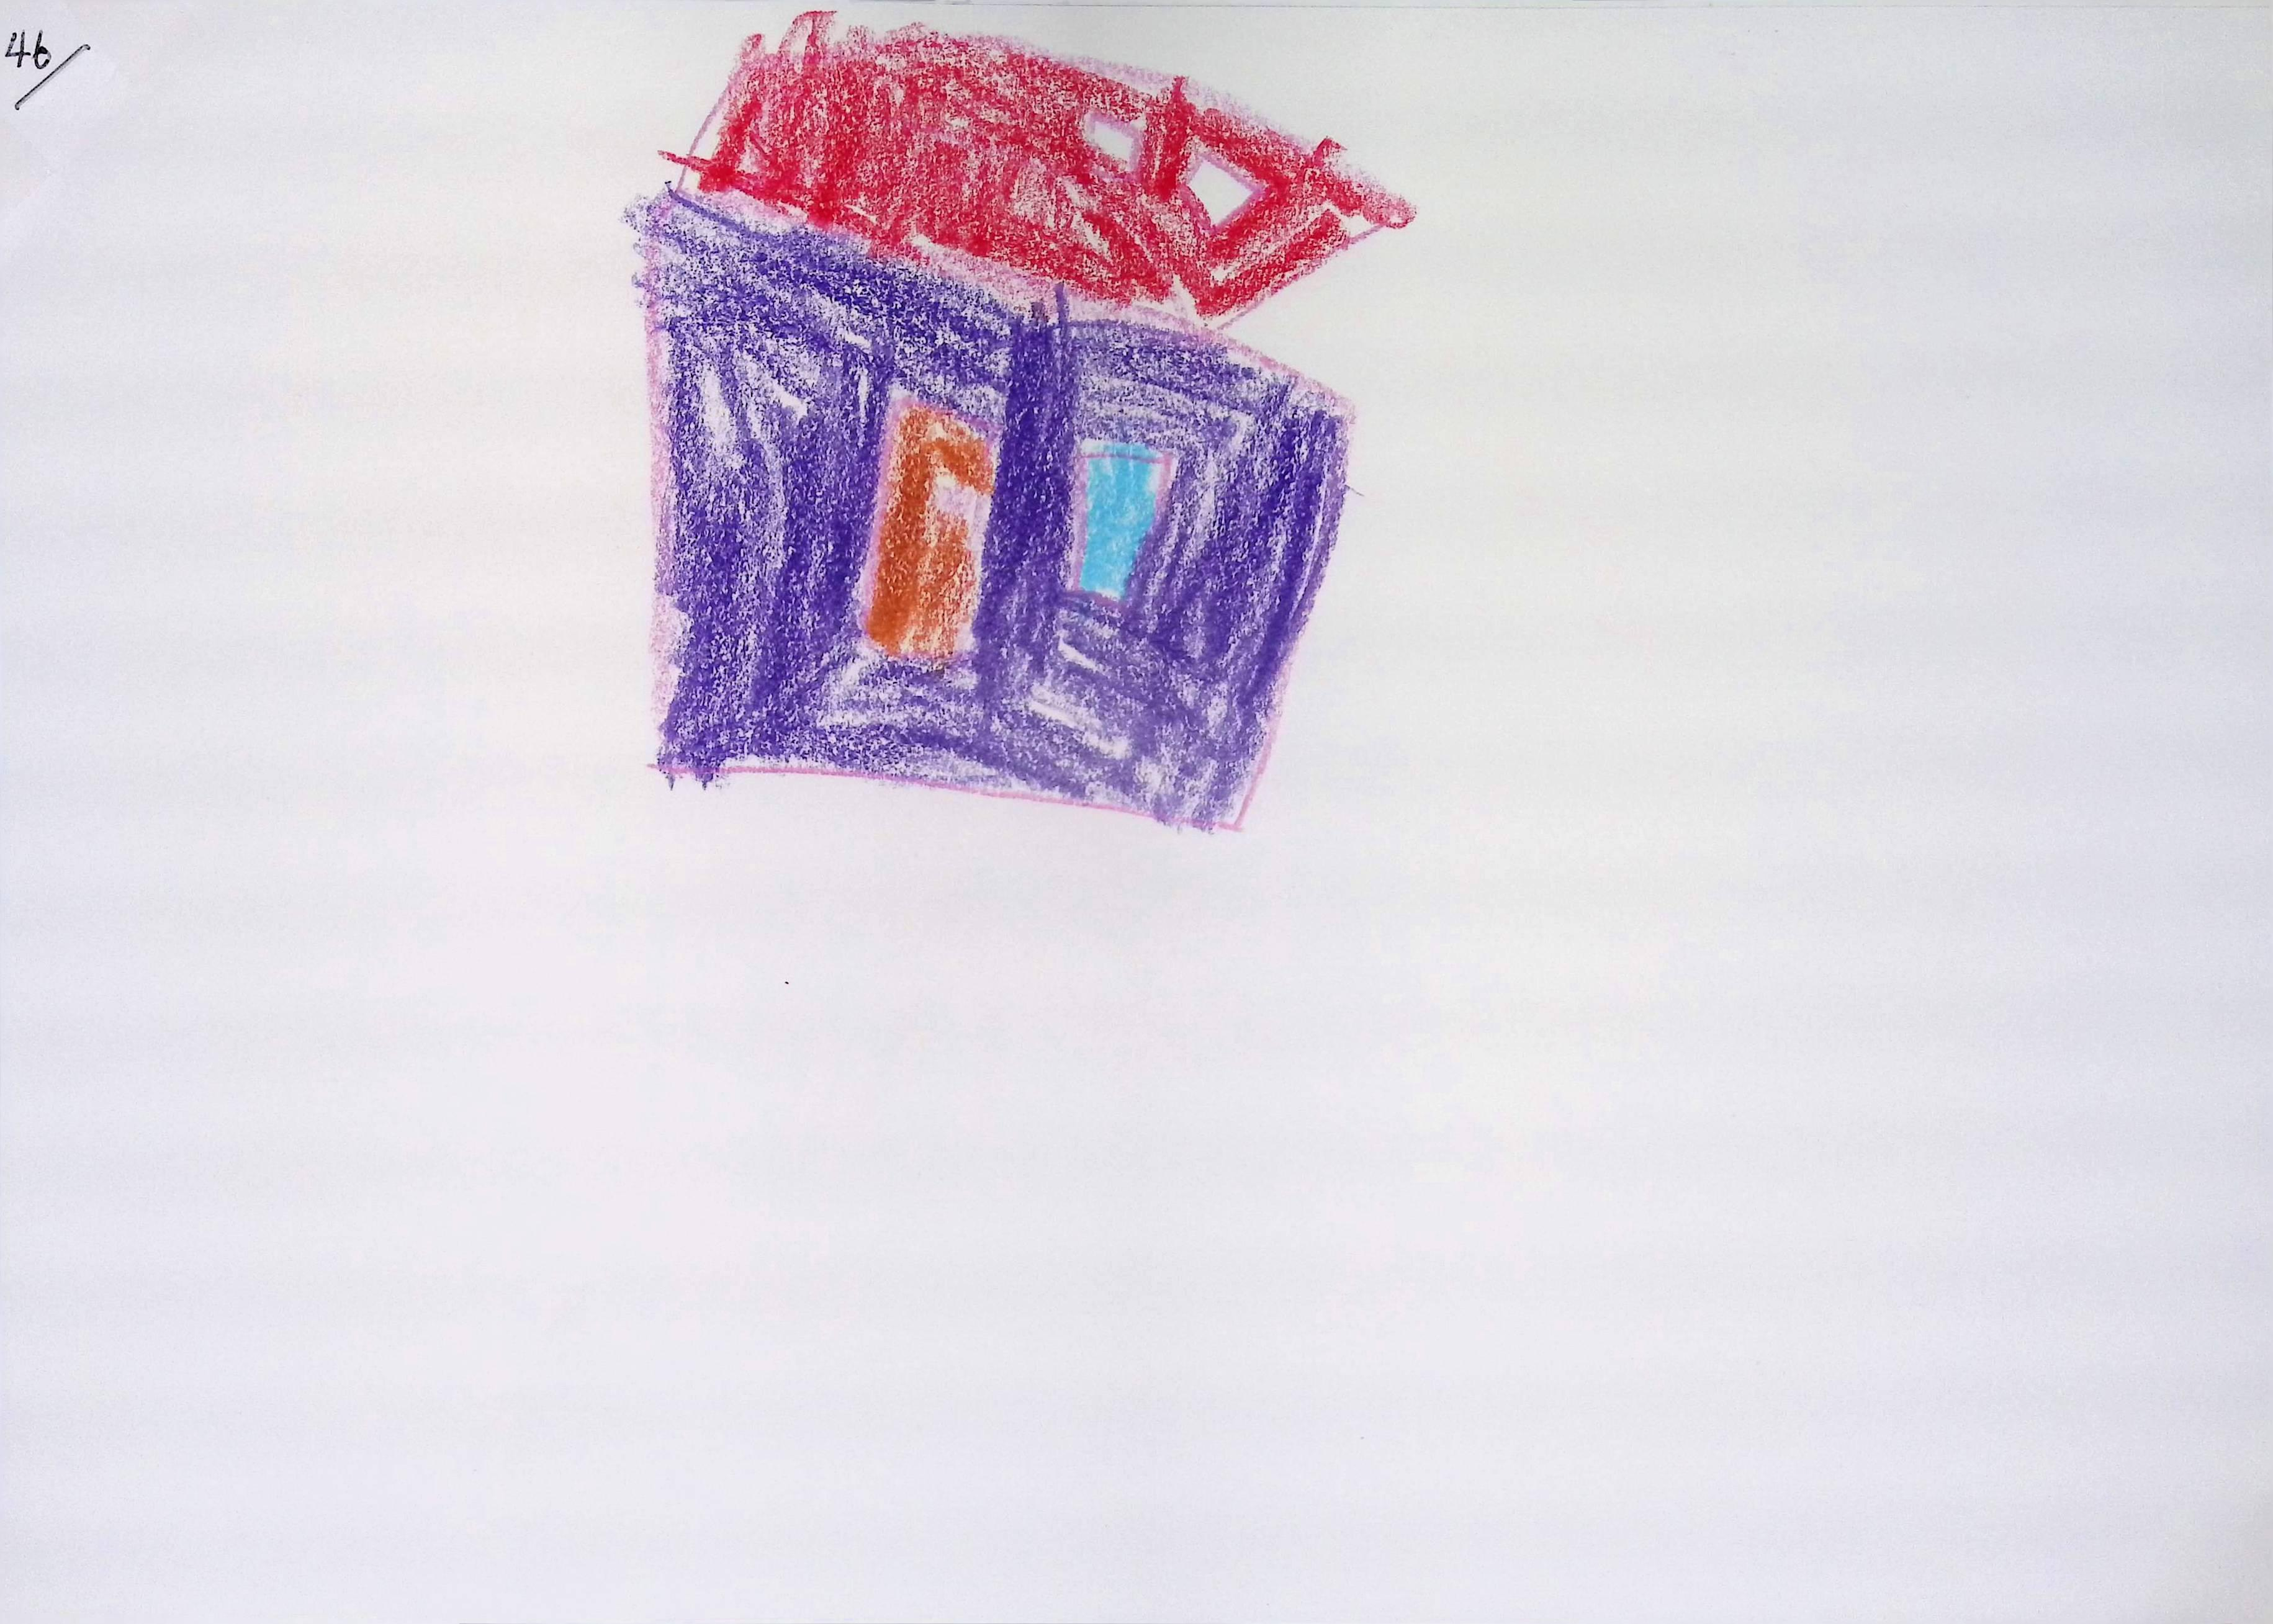door: (861, 395, 995, 659)
house: (633, 9, 1413, 826)
roof: (679, 9, 1413, 320)
wall: (640, 188, 1348, 824)
window: (1069, 438, 1176, 599), (1067, 97, 1146, 162), (1190, 155, 1255, 221)
